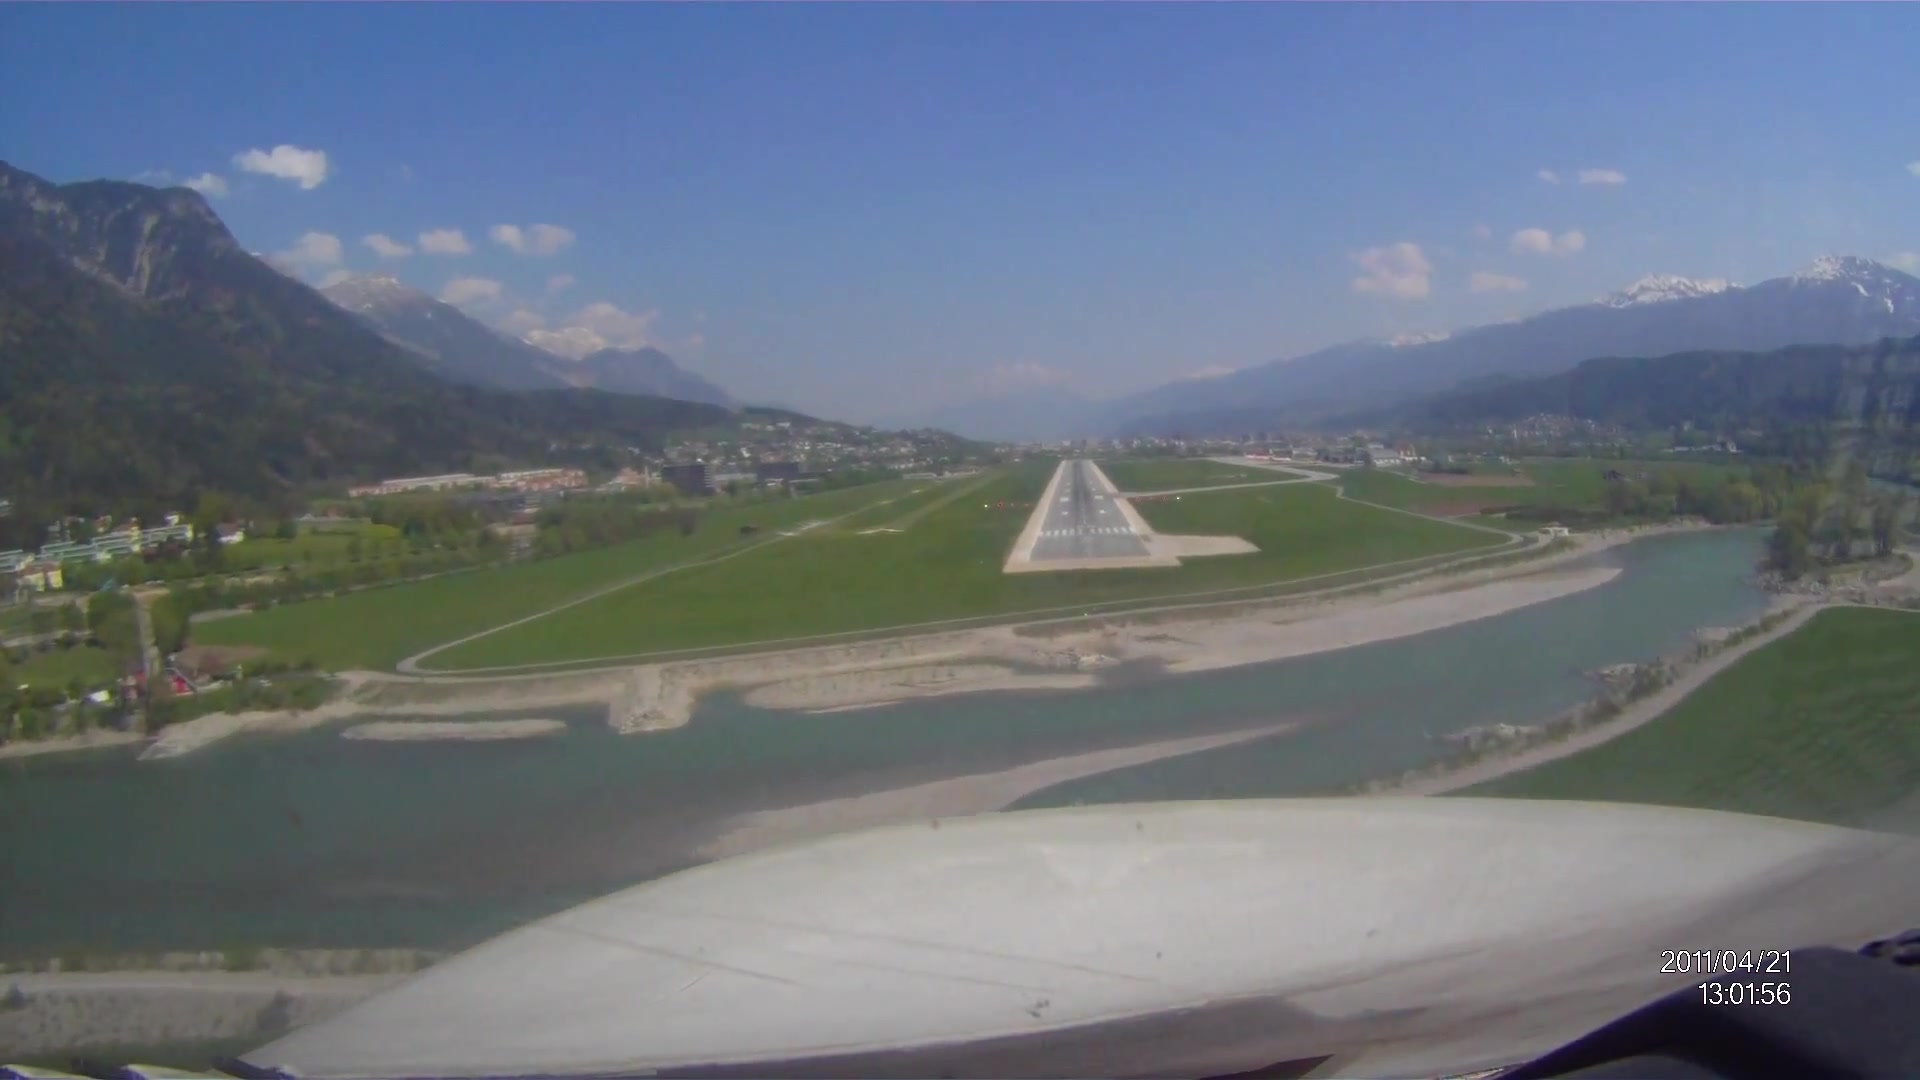entrance: (1034, 522, 1138, 538)
runway: (1031, 454, 1149, 560)
